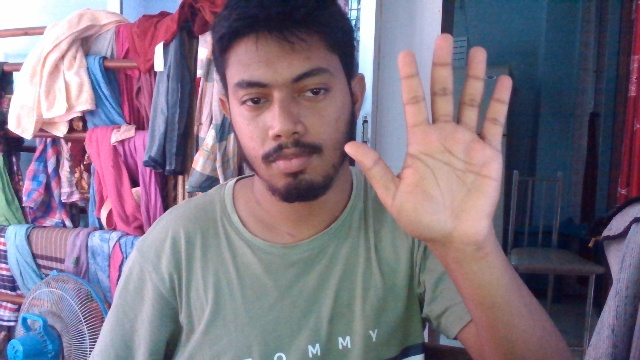hello: (341, 34, 526, 246)
